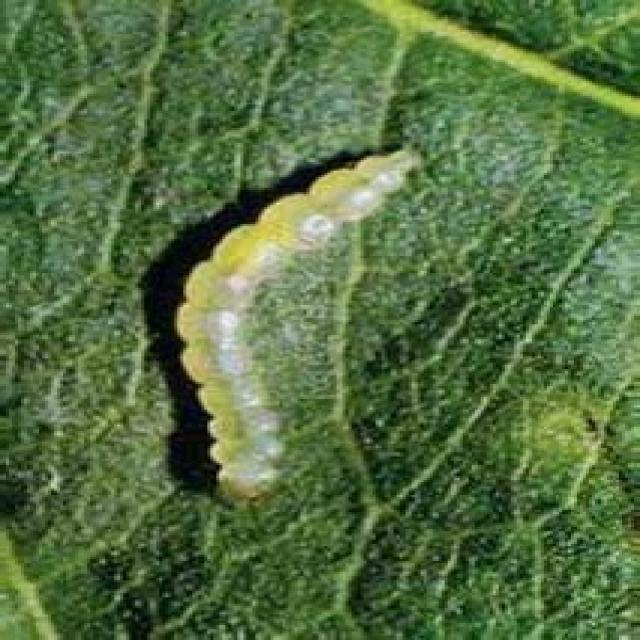peach borer: (160, 143, 425, 503)
